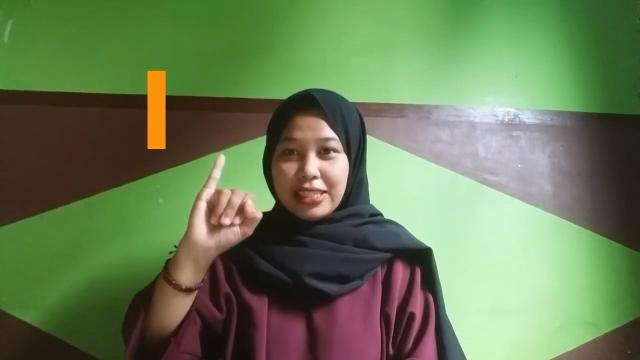I: (184, 152, 264, 252)
